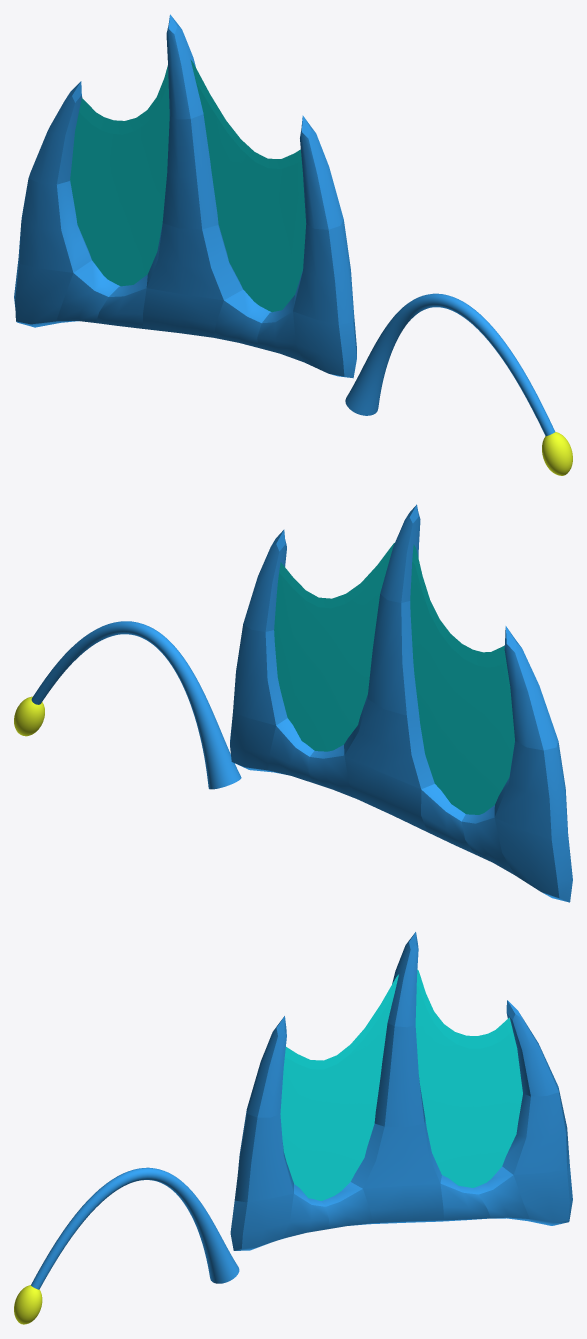
The picture shows the model from 3 angles, top to bottom: view 1: azimuth 30°, elevation 25°; view 2: azimuth 210°, elevation 25°; view 3: azimuth 270°, elevation 25°; orthographic projection. The views are drawn at different scales.
Visible parts, largest first — view 1: head_decor, head_decor.001, light_fish; view 2: head_decor, head_decor.001, light_fish; view 3: head_decor, head_decor.001, light_fish.
Part boxes in pixels (bbox=[...]): head_decor: bbox=[14, 14, 356, 378]; head_decor.001: bbox=[70, 59, 306, 312]; light_fish: bbox=[345, 293, 572, 475]; head_decor: bbox=[230, 504, 572, 902]; head_decor.001: bbox=[274, 543, 514, 814]; light_fish: bbox=[14, 621, 241, 789]; head_decor: bbox=[230, 932, 572, 1250]; head_decor.001: bbox=[280, 969, 522, 1200]; light_fish: bbox=[14, 1167, 239, 1324].
Bounding box in the file's own units: 40.53 × 82.05 × 52.05.
